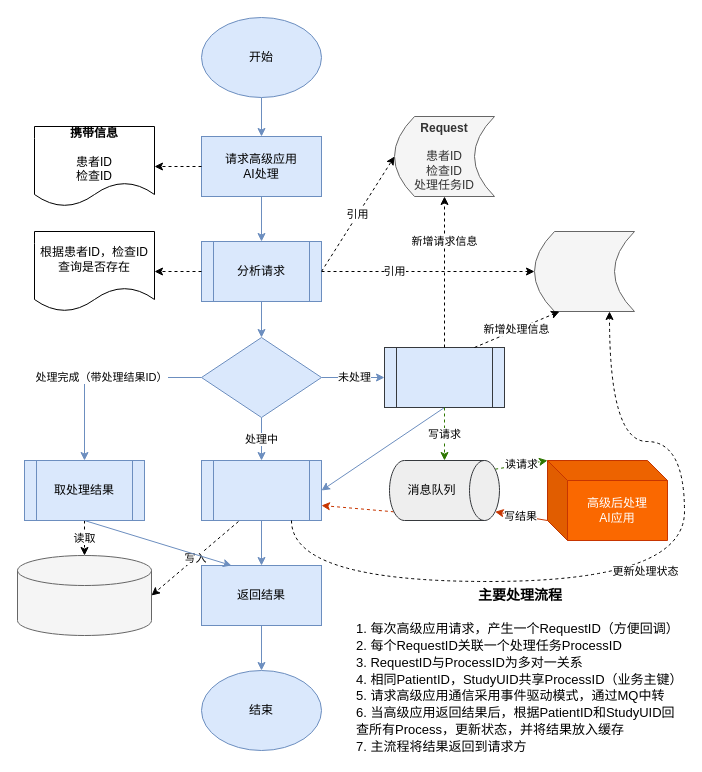
This 702x772 diagram has some shape labels left out. Each missing label, with the centre of its shape:
"Process 处理任务ID 处理结果ID 处理状态" belongs at point (584, 271).
"创建任务" belongs at point (444, 377).
"处理状态" belongs at point (261, 377).
"处理结果存储" belongs at point (84, 595).
"等待处理结果" belongs at point (261, 490).
